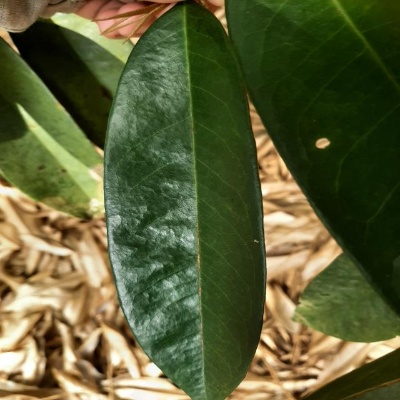Leaf_Healthy: (102, 1, 269, 400)
